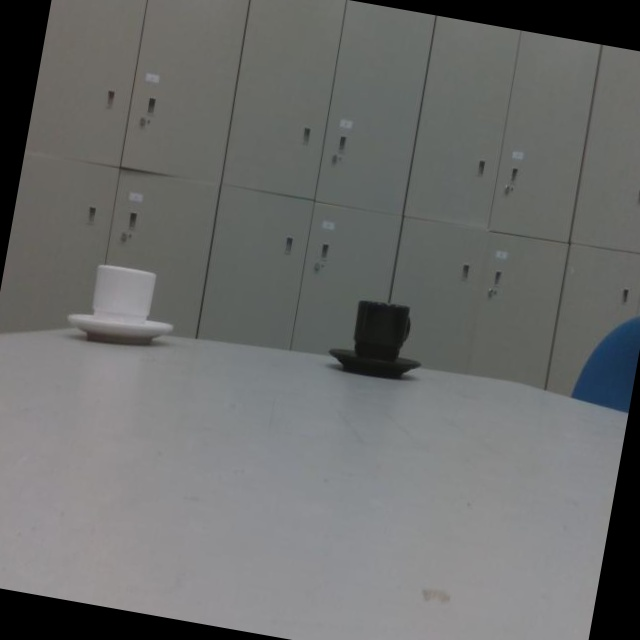black: (331, 299, 426, 378)
white: (68, 266, 178, 349)
